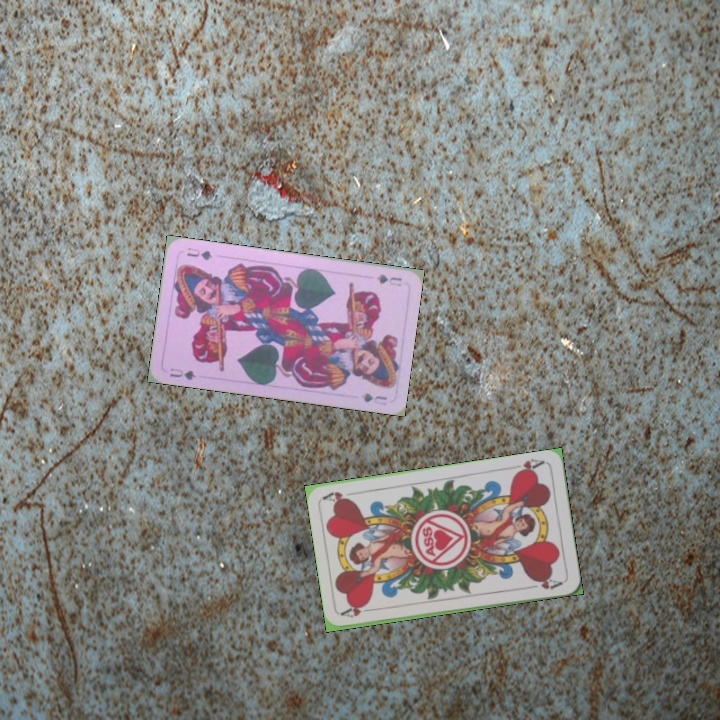GU: (166, 364, 198, 383), (373, 270, 404, 289)
HA: (509, 455, 547, 477), (338, 602, 379, 620)
